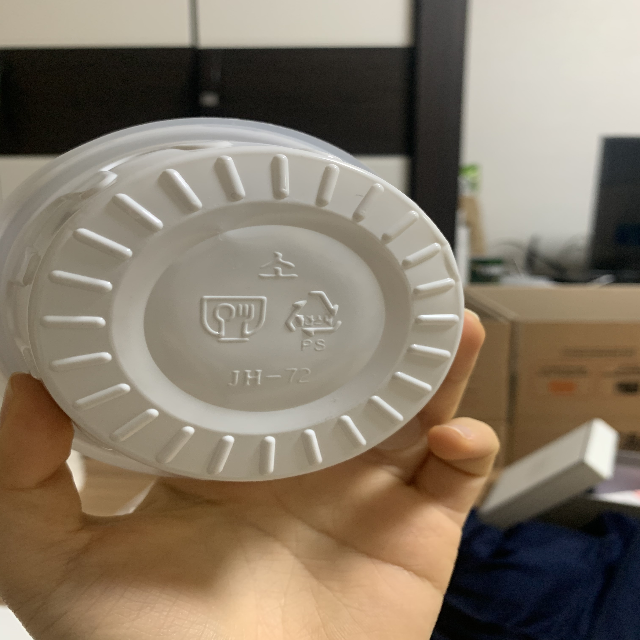ps: (282, 287, 346, 350)
